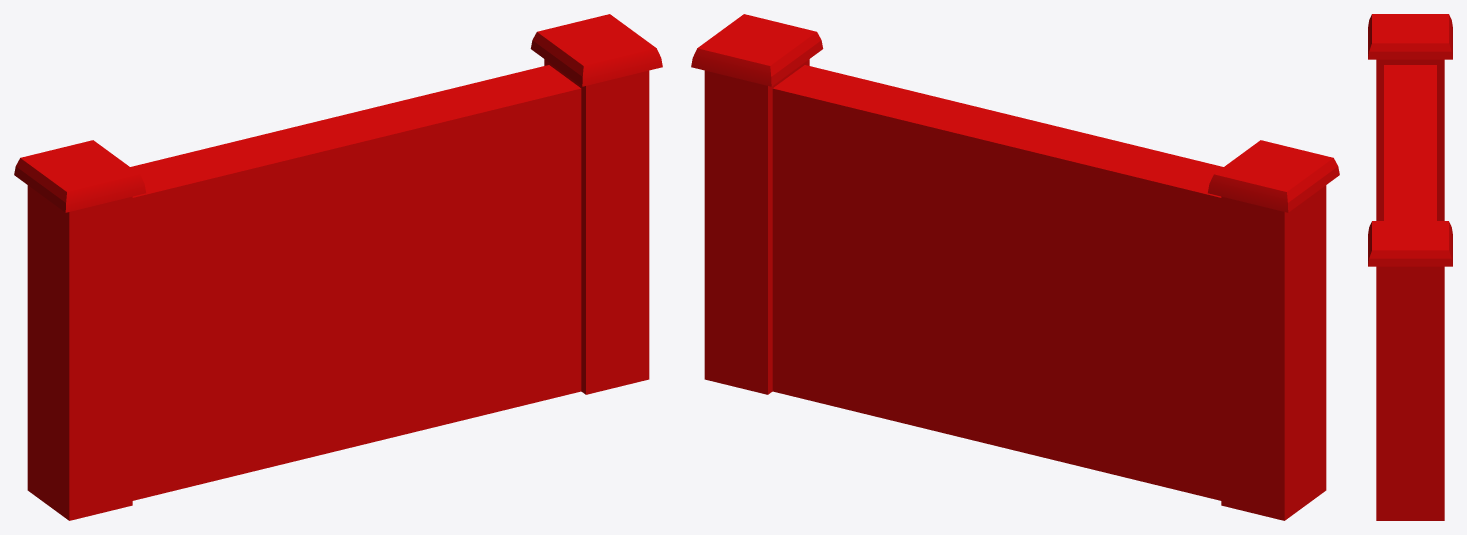
File: wall_lp.fbx
3 views of the same model, side by side, from view 1: azimuth 30°, elevation 25°; view 2: azimuth 150°, elevation 25°; view 3: azimuth 270°, elevation 25° (orthographic). The views are drawn at different scales.
Parts seen in each view (by area): view 1: wall_lp; view 2: wall_lp; view 3: wall_lp.
Boxes of the visible parts, x1,y1,x2,y2 form: wall_lp: (14, 14, 662, 520); wall_lp: (691, 14, 1339, 520); wall_lp: (1368, 14, 1452, 520).
Size of the model in its own units: 61.88 by 32.86 by 9.27.
